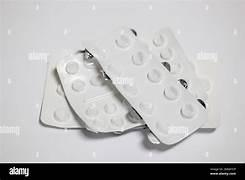pill_Strip: (85, 28, 206, 143), (141, 27, 219, 128), (141, 28, 219, 128), (147, 27, 219, 127), (57, 51, 143, 132), (150, 28, 206, 105), (149, 28, 204, 97), (40, 50, 85, 128), (40, 50, 84, 127), (193, 60, 220, 129), (193, 60, 220, 128), (41, 98, 80, 127), (41, 111, 80, 127), (146, 131, 159, 143)
